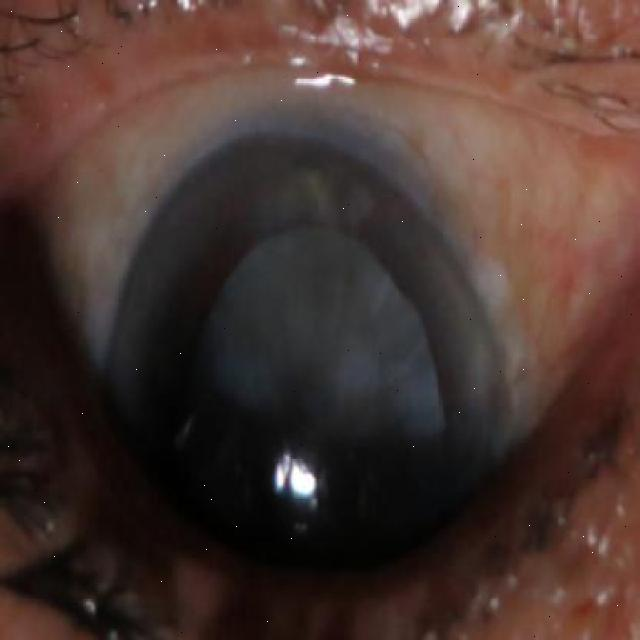Cataract: (100, 137, 506, 640)
